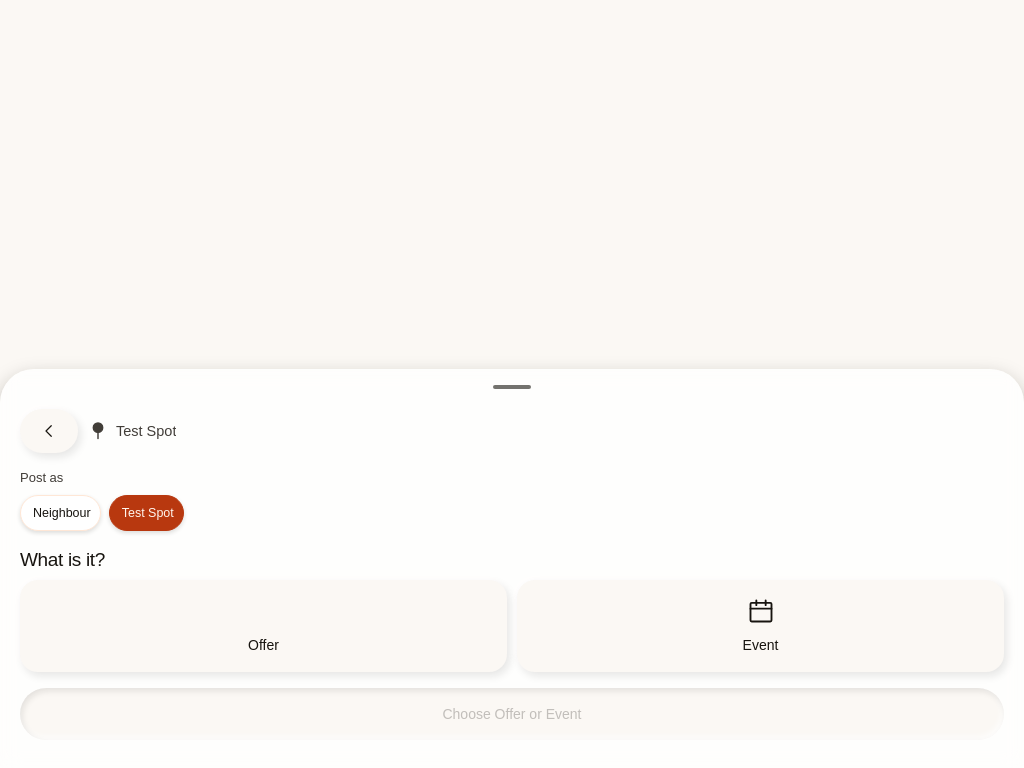
posting as a claimed place (DECISIONS.md 2026-10-22) › with an active claim: Post as Neighbour or the place; as the place, Offer or Event only
This screenshot has width=1024, height=768.
Expected: the radio button labelled "Offer" is shown, [20,580,507,672]
Expected: the radio button labelled "Issue" is not shown
What coordinates should you click on to do the following:
click the radio button labelled "Neighbour"
I would click on:
 (60, 513)
Its box is [20,495,101,531].
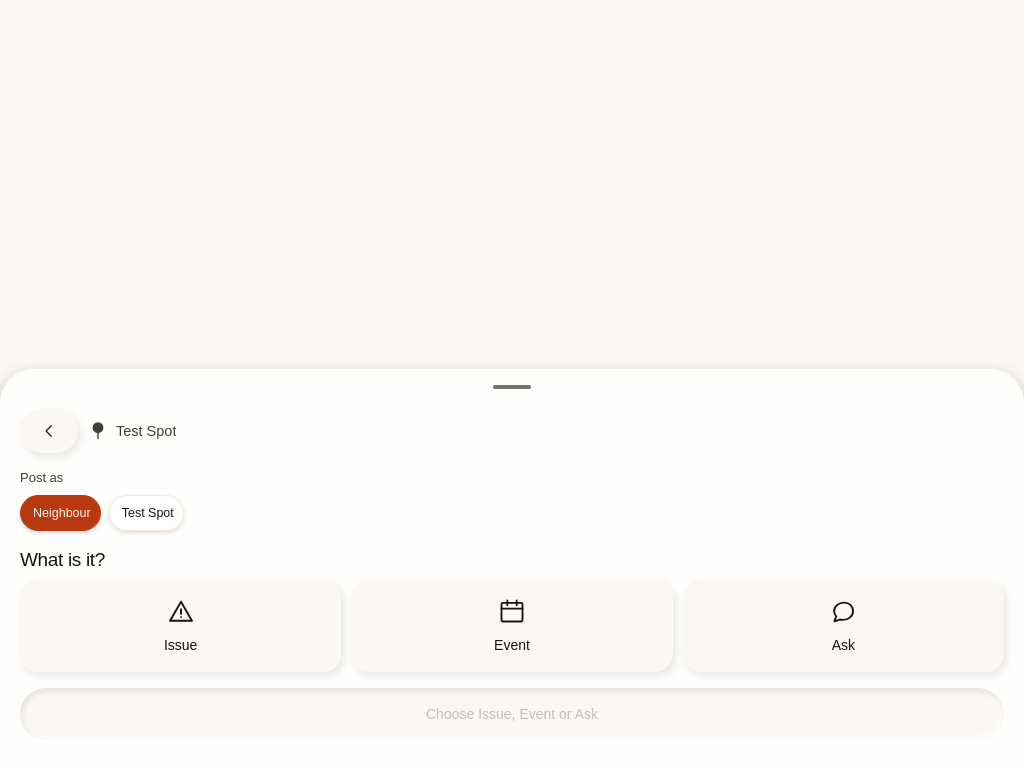
Expected: the radio button labelled "Issue" is shown, [20,580,341,672]
Expected: the radio button labelled "Offer" is gone
